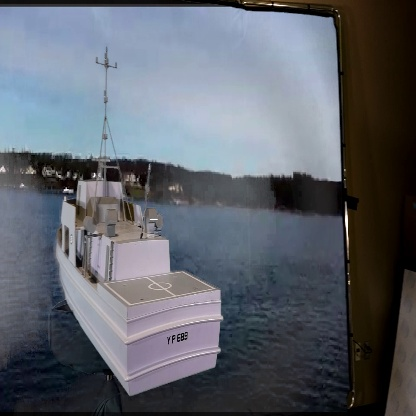YP689: (52, 49, 223, 397)
